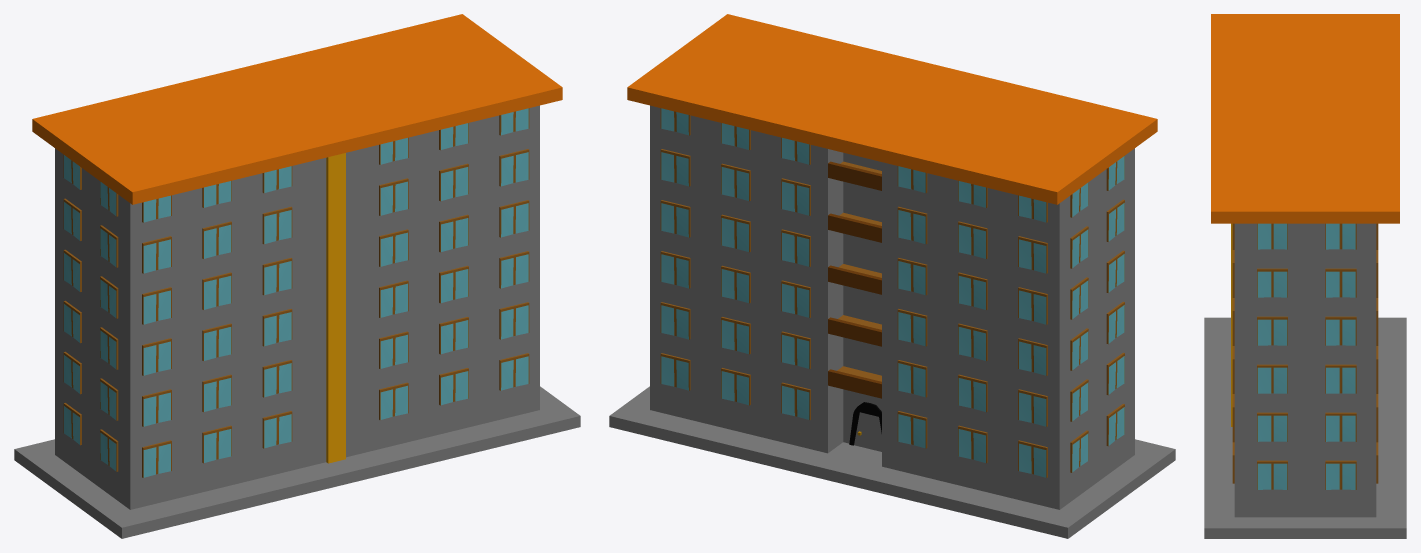
File: House1.fbx
The picture shows the model from 3 angles, left to right: view 1: azimuth 30°, elevation 25°; view 2: azimuth 150°, elevation 25°; view 3: azimuth 270°, elevation 25°; orthographic projection. The views are drawn at different scales.
Visible parts, largest first — view 1: House.001; view 2: House.001; view 3: House.001.
Part boxes in pixels (box(x1,y1,x2,y2)): House.001: box(14, 14, 580, 538); House.001: box(609, 14, 1175, 538); House.001: box(1204, 14, 1406, 538).
Bounding box in the file's own units: 3197 × 2268 × 1298.
